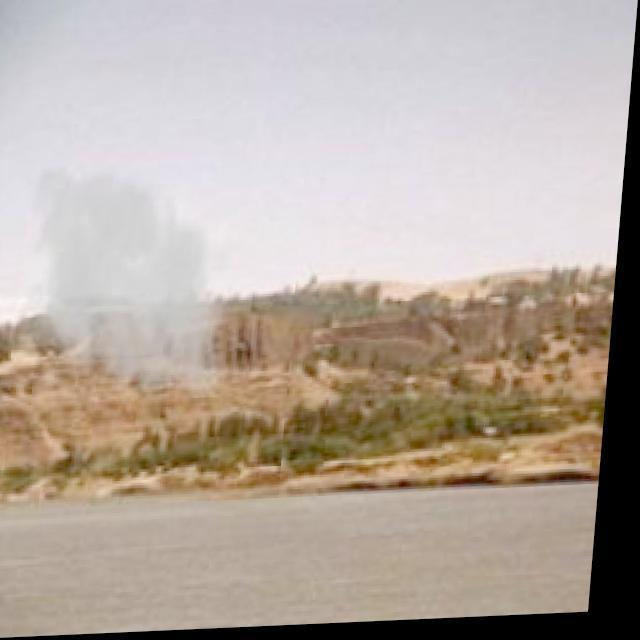Smoke: (5, 156, 258, 416)
